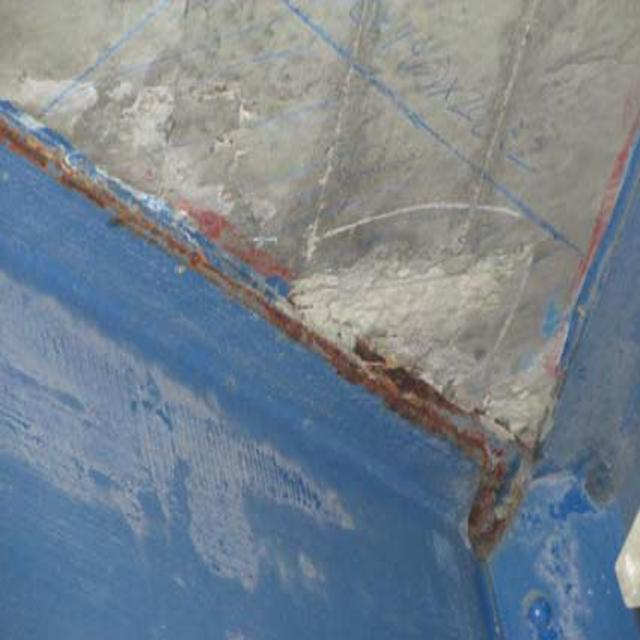corrosion: (14, 120, 524, 554)
